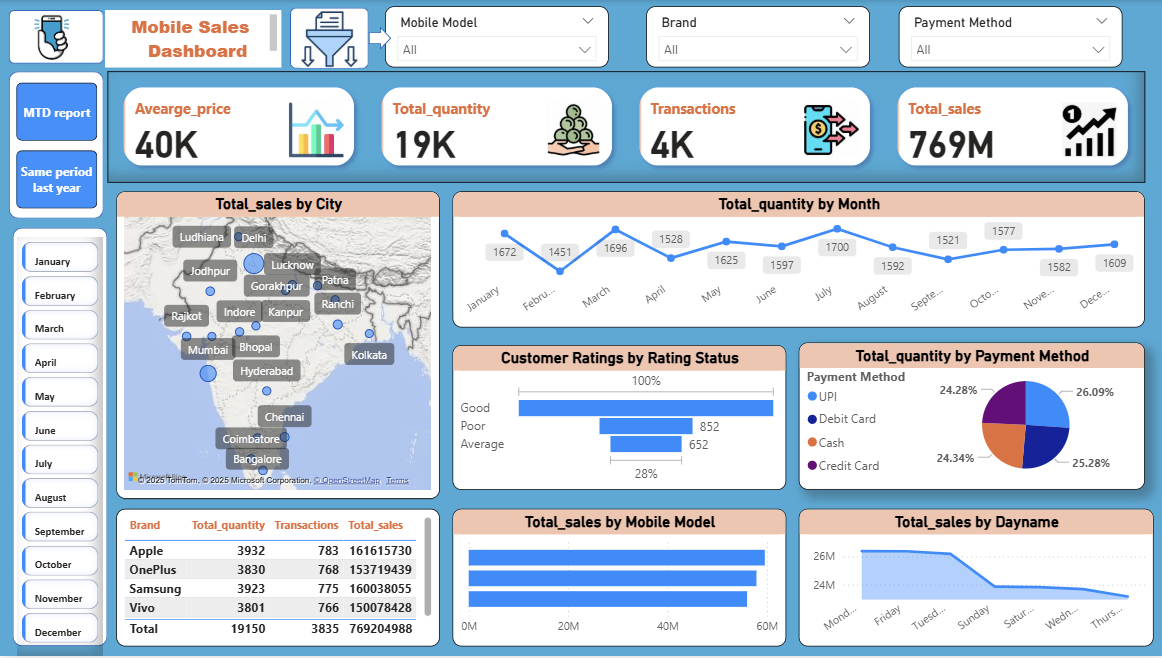

The dashboard page shown, as its layout file describes it:
{"tool":"powerbi","page":{"name":"Dashboard","canvas":[1280,720],"ordinal":0},"visuals":[{"type":"shape","box":[13.7,249.7,104.3,459.7],"z":0},{"type":"shape","box":[9.6,11,104.3,59],"z":1000},{"type":"image","box":[0,4.1,113.9,74.1],"z":2000},{"type":"shape","box":[9.6,78.2,104.3,161.9],"z":3000},{"type":"advancedSlicerVisual","fields":{"Values":["Custom_calender.Date.Variation.Date Hierarchy.Month"]},"box":[19.2,260.7,94.7,459.7],"z":4000},{"type":"cardVisual","fields":{"Data":["Sales_data.Avearge_price","Sales_data.Total_quantity","Sales_data.Transactions","Sales_data.Total_sales"]},"box":[118,78.2,1138.9,122.1],"z":5000},{"type":"slicer","fields":{"Values":["Sales_data.Mobile Model"]},"box":[422.6,6.9,245.6,67.2],"z":6000},{"type":"slicer","fields":{"Values":["Sales_data.Brand"]},"box":[709.4,6.9,245.6,67.2],"z":7000},{"type":"slicer","fields":{"Values":["Sales_data.Payment Method"]},"box":[986.6,6.9,245.6,67.2],"z":8000},{"type":"shape","box":[318.4,8.2,86.4,67.2],"z":9000},{"type":"image","box":[325.2,4.1,72.7,76.8],"z":10000},{"type":"shape","box":[404.8,28.8,24.7,26.1],"z":11000},{"type":"textbox","box":[115.3,11,193.5,63.1],"z":12000},{"type":"map","fields":{"Category":["Sales_data.City"],"Size":["Sales_data.Total_sales"]},"box":[127.6,209.9,355.4,337.6],"z":13000},{"type":"lineChart","fields":{"Y":["Sales_data.Total_quantity"],"Category":["Custom_calender.Date.Variation.Date Hierarchy.Month"]},"box":[496.7,209.9,760.2,149.6],"z":14000},{"type":"funnel","title":" Customer Ratings by Rating Status","fields":{"Category":["Sales_data.Rating Status"],"Y":["CountNonNull(Sales_data.Customer Ratings)"]},"box":[496.7,378.7,366.4,159.2],"z":15000},{"type":"pieChart","fields":{"Y":["Sales_data.Total_quantity"],"Category":["Sales_data.Payment Method"]},"box":[876.8,376,380.1,161.9],"z":16000},{"type":"clusteredBarChart","fields":{"Y":["Sales_data.Total_sales"],"Category":["Sales_data.Mobile Model"]},"box":[496.7,558.5,366.4,150.9],"z":17000},{"type":"areaChart","fields":{"Y":["Sales_data.Total_sales"],"Category":["Custom_calender.Dayname"]},"box":[876.8,558.5,389.7,150.9],"z":18000},{"type":"tableEx","fields":{"Values":["Sales_data.Brand","Sales_data.Total_quantity","Sales_data.Transactions","Sales_data.Total_sales"]},"box":[127.6,558.5,355.4,150.9],"z":19000},{"type":"pageNavigator","box":[17.8,90.6,89.2,138.6],"z":20000}]}

Visuals, with their boxes in screenshot pixels (x1, y1, x2, y2), scaled from the page's 1280x720 canvas onto the 1162x658 screenshot:
shape: box=[12, 228, 107, 648]
shape: box=[9, 10, 103, 64]
image: box=[0, 4, 103, 71]
shape: box=[9, 71, 103, 219]
advancedSlicerVisual - Custom_calender.Date.Variation.Date Hierarchy.Month: box=[17, 238, 103, 657]
cardVisual - Sales_data.Avearge_price x Sales_data.Total_quantity: box=[107, 71, 1141, 183]
slicer - Sales_data.Mobile Model: box=[384, 6, 607, 68]
slicer - Sales_data.Brand: box=[644, 6, 867, 68]
slicer - Sales_data.Payment Method: box=[896, 6, 1119, 68]
shape: box=[289, 7, 367, 69]
image: box=[295, 4, 361, 74]
shape: box=[367, 26, 390, 50]
textbox: box=[105, 10, 280, 68]
map - Sales_data.City x Sales_data.Total_sales: box=[116, 192, 438, 500]
lineChart - Sales_data.Total_quantity x Custom_calender.Date.Variation.Date Hierarchy.Month: box=[451, 192, 1141, 329]
" Customer Ratings by Rating Status" funnel: box=[451, 346, 784, 492]
pieChart - Sales_data.Total_quantity x Sales_data.Payment Method: box=[796, 344, 1141, 492]
clusteredBarChart - Sales_data.Total_sales x Sales_data.Mobile Model: box=[451, 510, 784, 648]
areaChart - Sales_data.Total_sales x Custom_calender.Dayname: box=[796, 510, 1150, 648]
tableEx - Sales_data.Brand x Sales_data.Total_quantity: box=[116, 510, 438, 648]
pageNavigator: box=[16, 83, 97, 209]
